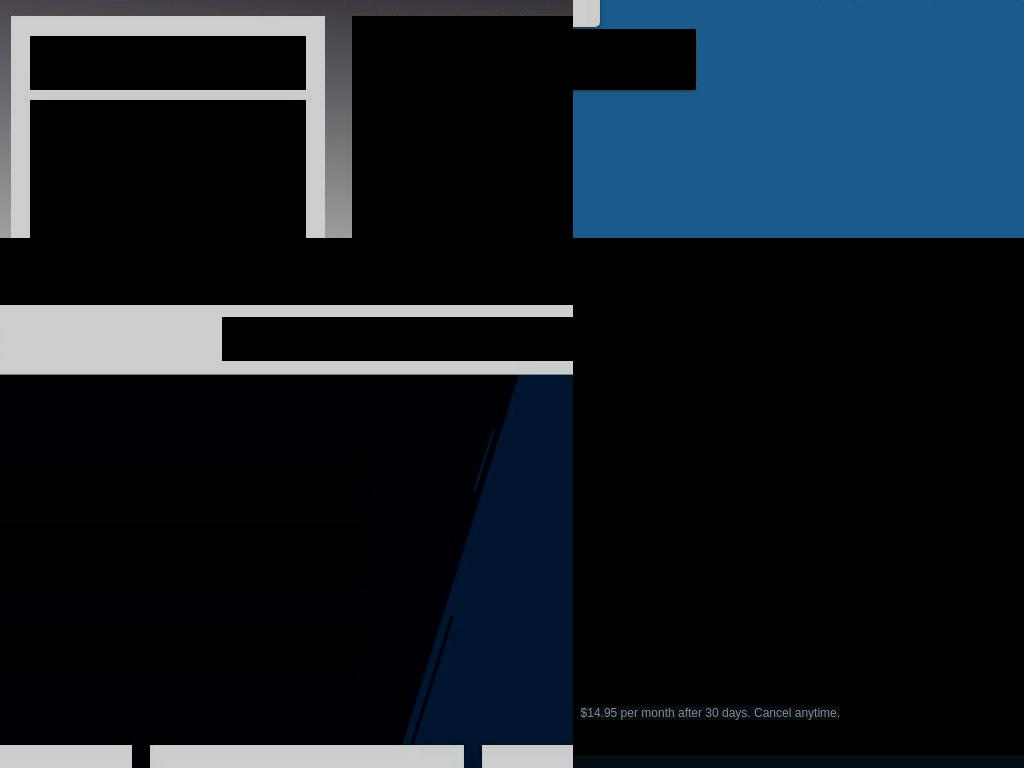button: (30, 100, 306, 238), (573, 657, 869, 697), (222, 317, 414, 361), (573, 29, 696, 90), (414, 317, 547, 361)
field: (0, 623, 367, 666)
heading: (0, 525, 367, 588), (573, 493, 997, 545), (0, 455, 362, 513), (30, 36, 306, 90), (573, 413, 997, 447), (573, 565, 997, 591), (573, 611, 997, 637)
iframe: (352, 16, 573, 238), (0, 238, 573, 305)
image: (573, 385, 1024, 755), (573, 238, 1024, 385), (30, 100, 306, 238), (625, 42, 662, 78)
text: (573, 657, 853, 697), (573, 449, 883, 471), (580, 706, 840, 720), (872, 242, 1024, 257), (573, 45, 621, 72)
